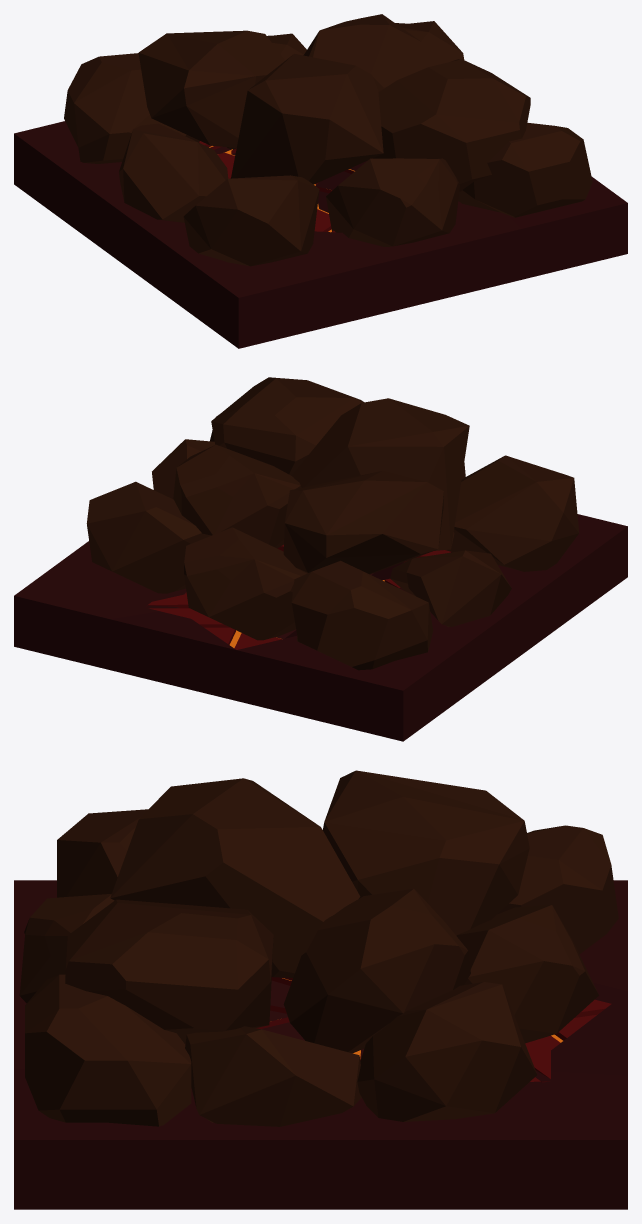
Rendered from lavaChannel.fbx.
3 views of the same model, one above another, from view 1: azimuth 30°, elevation 25°; view 2: azimuth 150°, elevation 25°; view 3: azimuth 270°, elevation 25° (orthographic). The views are drawn at different scales.
Parts seen in each view (by area): view 1: Cube.001, Cube, Plane; view 2: Cube.001, Cube, Plane; view 3: Cube.001, Cube, Plane.
Boxes of the visible parts, x1=… form: Cube.001: x1=64, y1=14, x2=592, y2=266; Cube: x1=14, y1=121, x2=627, y2=348; Plane: x1=199, y1=141, x2=354, y2=232; Cube.001: x1=86, y1=377, x2=579, y2=670; Cube: x1=14, y1=514, x2=627, y2=741; Plane: x1=146, y1=544, x2=450, y2=649; Cube.001: x1=19, y1=770, x2=618, y2=1126; Cube: x1=14, y1=880, x2=627, y2=1209; Plane: x1=256, y1=977, x2=611, y2=1082.
Size of the model in its own units: 200 by 90.54 by 200.
